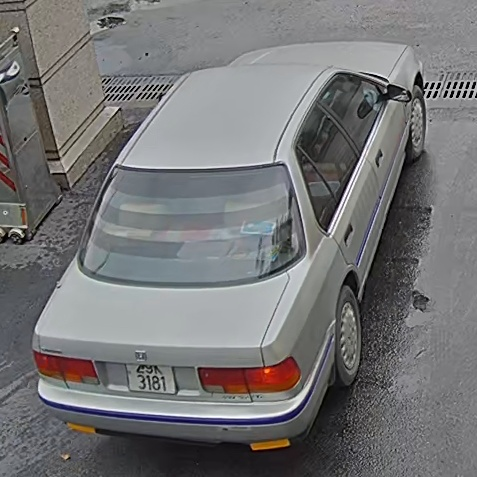vehicle plate: (123, 357, 180, 399)
